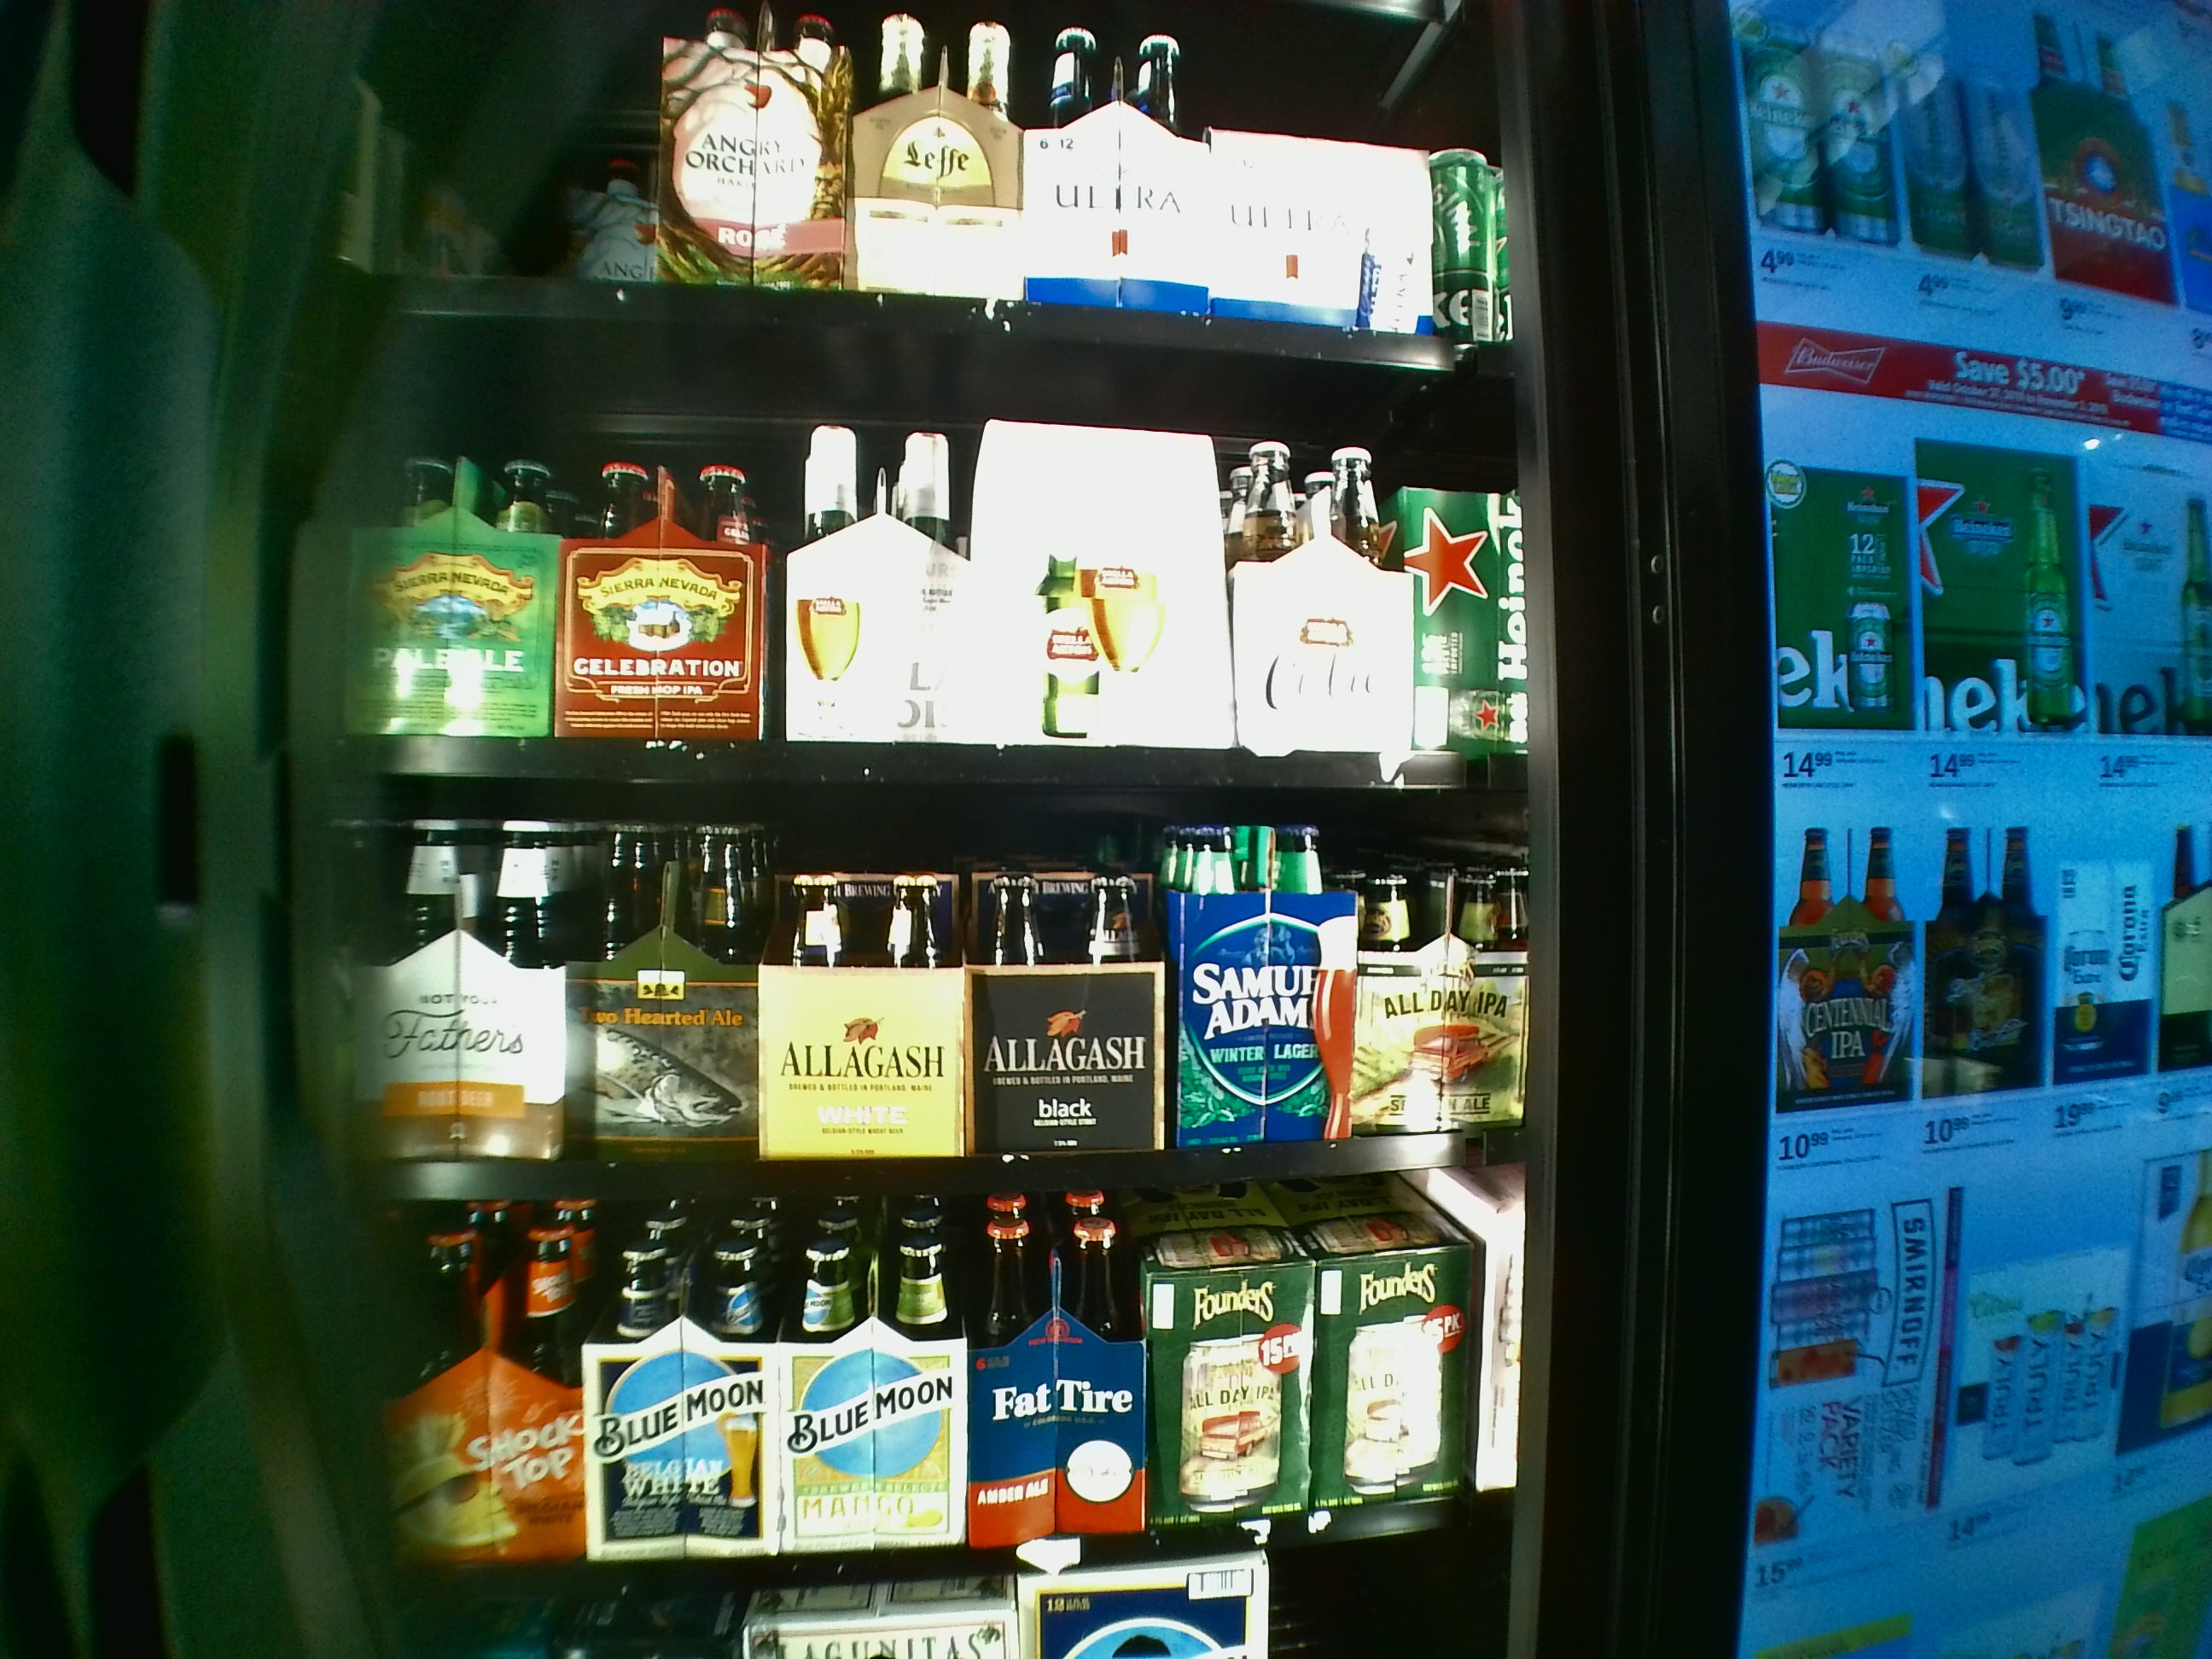shelf: (329, 322, 1524, 791), (334, 803, 1526, 1211)
